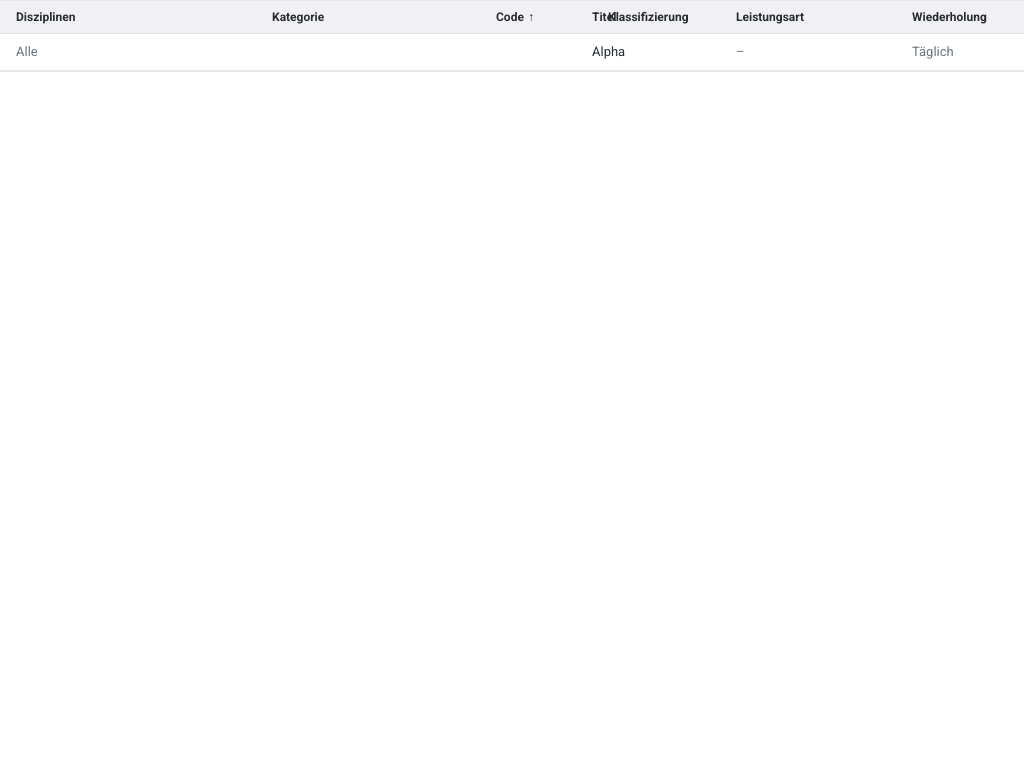
Test: ActionPlanTemplatesView › Zeitangabe einer Handlungsvorlage › bietet die Zeitangabe nicht als zwingend an
Click the text "Alpha" at (584, 52), box top-left (576, 34), bottom-right (592, 70)
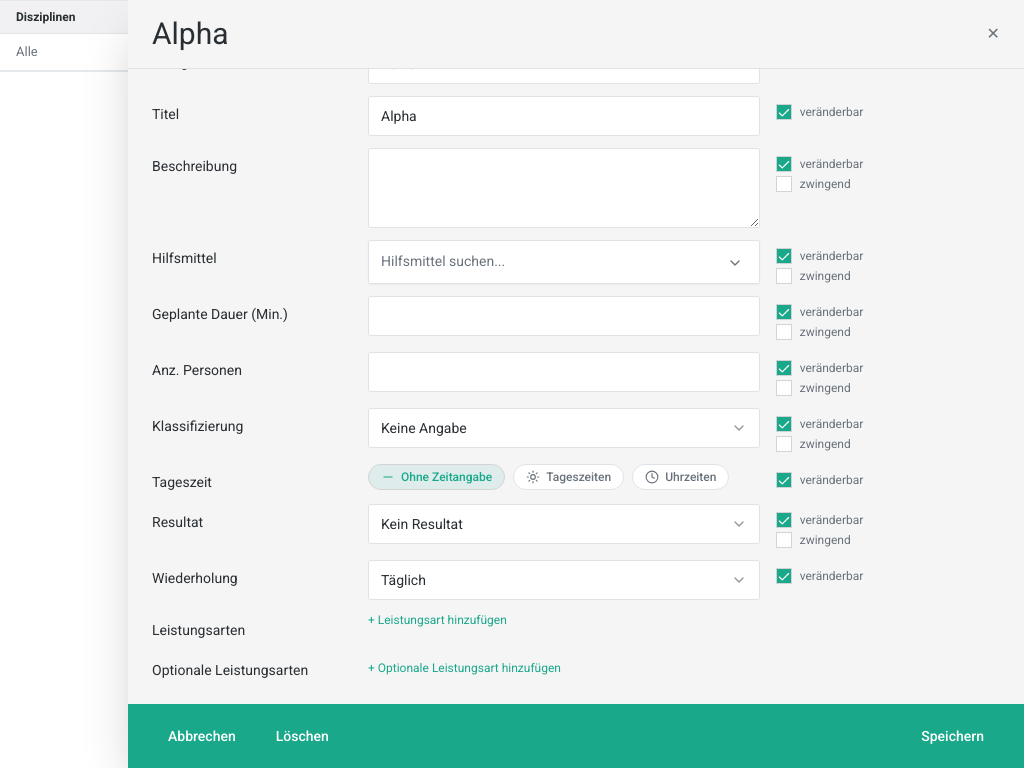
Expected: the checkbox named "Klassifizierung zwingend" is shown, top-left (776, 436), bottom-right (792, 452)
